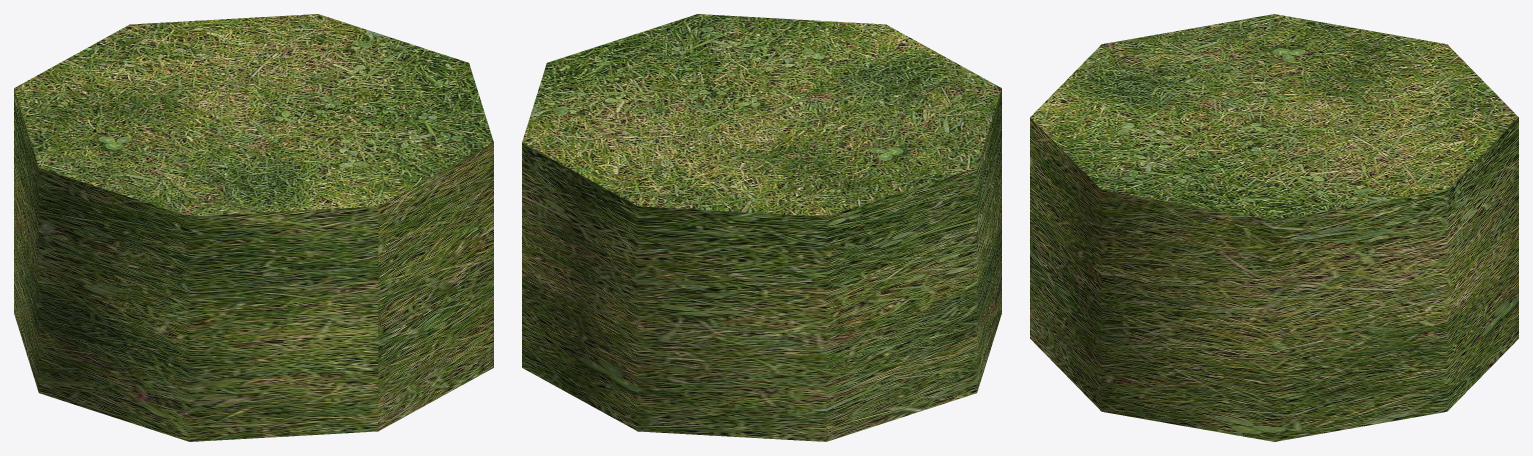
3 views of the same model, side by side, from view 1: azimuth 30°, elevation 25°; view 2: azimuth 150°, elevation 25°; view 3: azimuth 270°, elevation 25° (orthographic).
Visible parts, largest first — view 1: Cylinder; view 2: Cylinder; view 3: Cylinder.
Part boxes in pixels (bbox=[...]): Cylinder: bbox=[14, 14, 493, 441]; Cylinder: bbox=[522, 14, 1001, 441]; Cylinder: bbox=[1030, 14, 1518, 441].
Size of the model in its own units: 2 by 1 by 2.
Materials: 1 (1 with a texture image).
